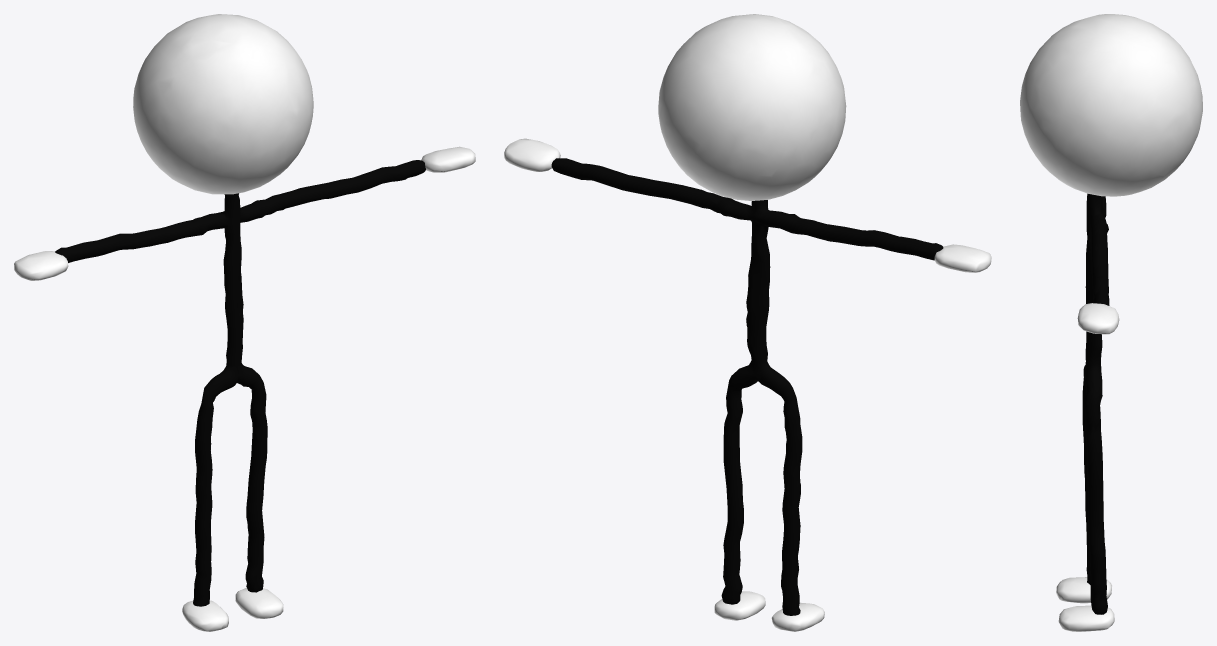
Rendered from plain mfer.glb.
3 views of the same model, side by side, from view 1: azimuth 30°, elevation 25°; view 2: azimuth 150°, elevation 25°; view 3: azimuth 270°, elevation 25° (orthographic). The views are drawn at different scales.
Visible parts, largest first — view 1: type_plain.003; view 2: type_plain.003; view 3: type_plain.003.
Boxes of the visible parts, box(x1,y1,x2,y2) form: type_plain.003: box(14, 14, 475, 631); type_plain.003: box(504, 14, 991, 631); type_plain.003: box(1020, 14, 1202, 631).
Bounding box in the file's own units: 0.9748 × 1.19 × 0.3319.
3 materials, 3 textured.
